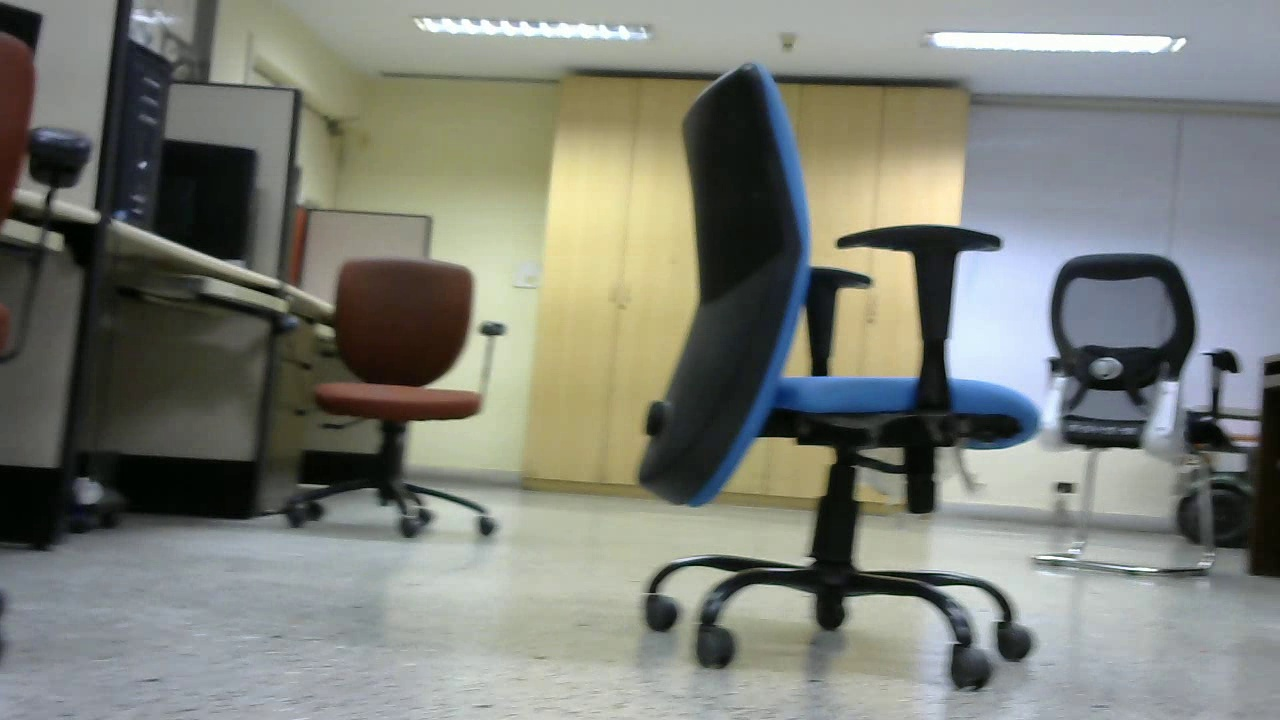chair: (622, 57, 1042, 695), (283, 255, 502, 542), (1032, 251, 1217, 577)
